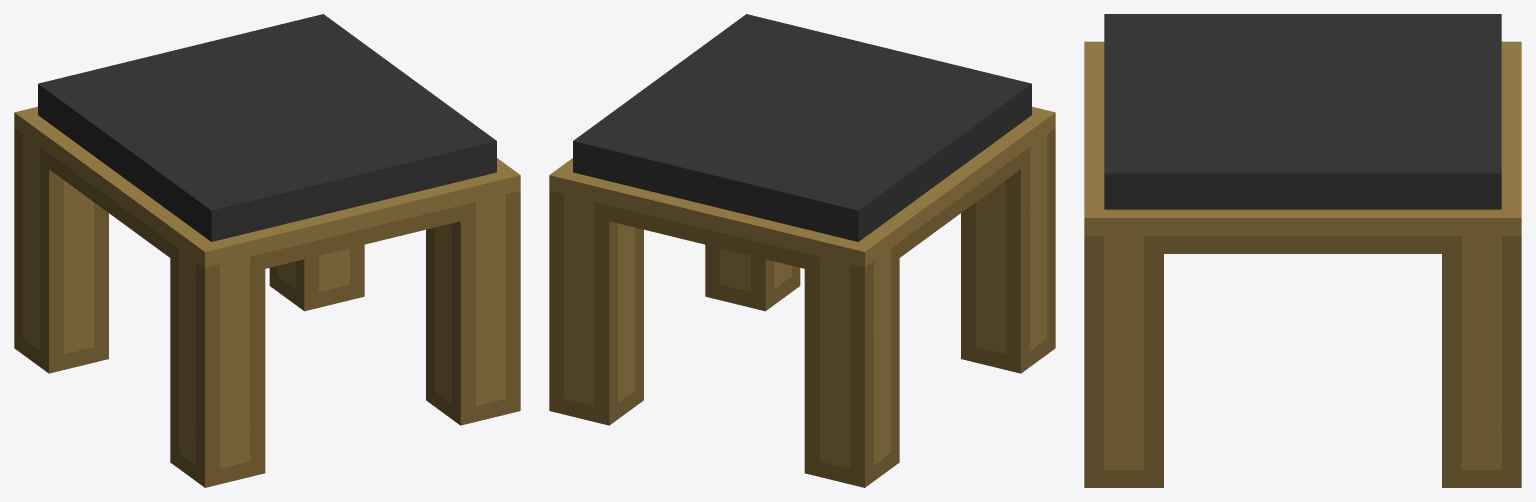
The model's file is footrest.fbx.
3 views of the same model, side by side, from view 1: azimuth 30°, elevation 25°; view 2: azimuth 150°, elevation 25°; view 3: azimuth 270°, elevation 25° (orthographic). The views are drawn at different scales.
Visible parts, largest first — view 1: footrest; view 2: footrest; view 3: footrest.
Part boxes in pixels (x1=…): footrest: x1=14, y1=14, x2=520, y2=487; footrest: x1=549, y1=14, x2=1055, y2=487; footrest: x1=1084, y1=14, x2=1521, y2=487.
Size of the model in its own units: 21 by 17 by 22.
